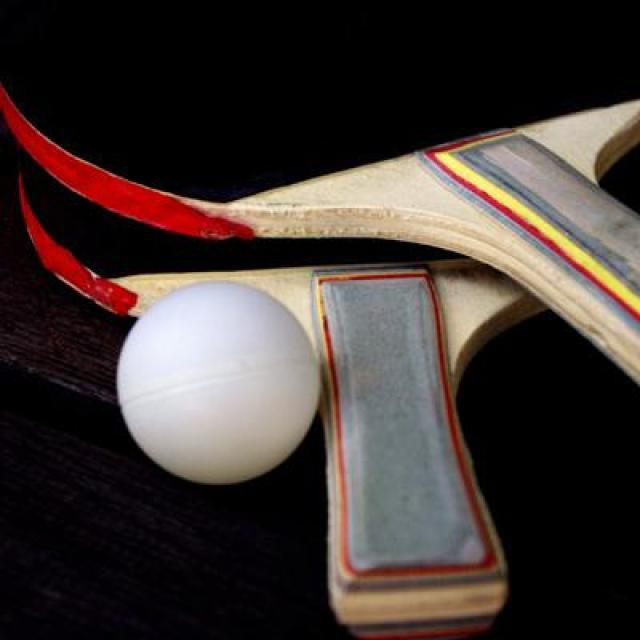ping-pong-ball: (109, 277, 325, 486)
